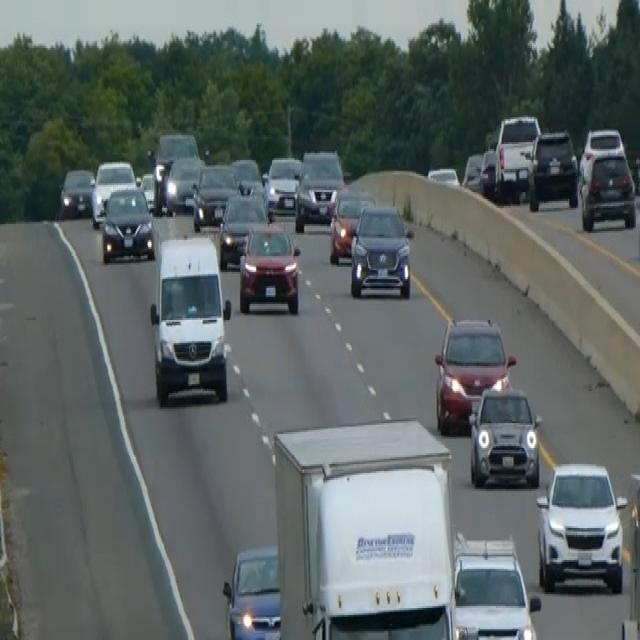car: (535, 458, 627, 594), (433, 313, 516, 432), (451, 532, 540, 638), (468, 384, 542, 489), (349, 201, 412, 299), (237, 218, 301, 314), (221, 542, 281, 638), (579, 149, 637, 231), (523, 128, 578, 212), (100, 183, 154, 263), (493, 112, 541, 199), (294, 148, 344, 231), (218, 188, 268, 268), (152, 130, 199, 210), (328, 185, 375, 263), (191, 162, 238, 231), (90, 158, 136, 228), (578, 125, 625, 183), (164, 153, 204, 213), (264, 155, 302, 215), (59, 165, 94, 219), (229, 155, 264, 199), (478, 146, 498, 197), (461, 149, 483, 192), (138, 170, 157, 210), (426, 164, 459, 186)
lorry: (271, 414, 460, 638)
minibus: (148, 231, 232, 407)
